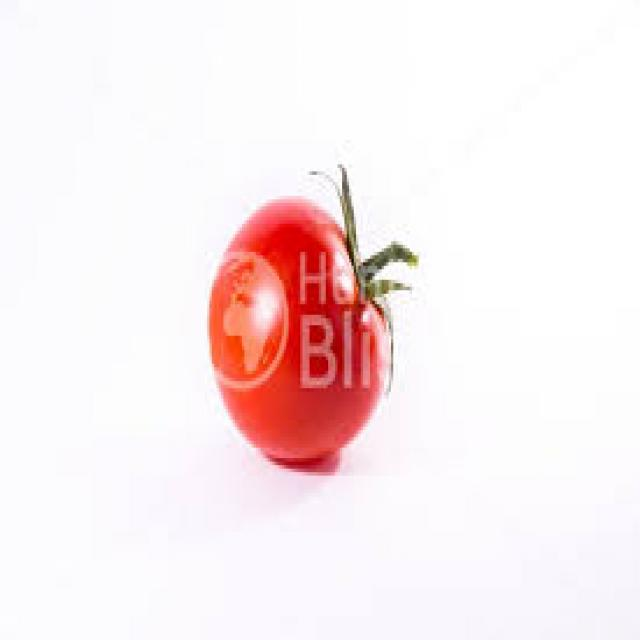organic waste: (207, 161, 410, 462)
